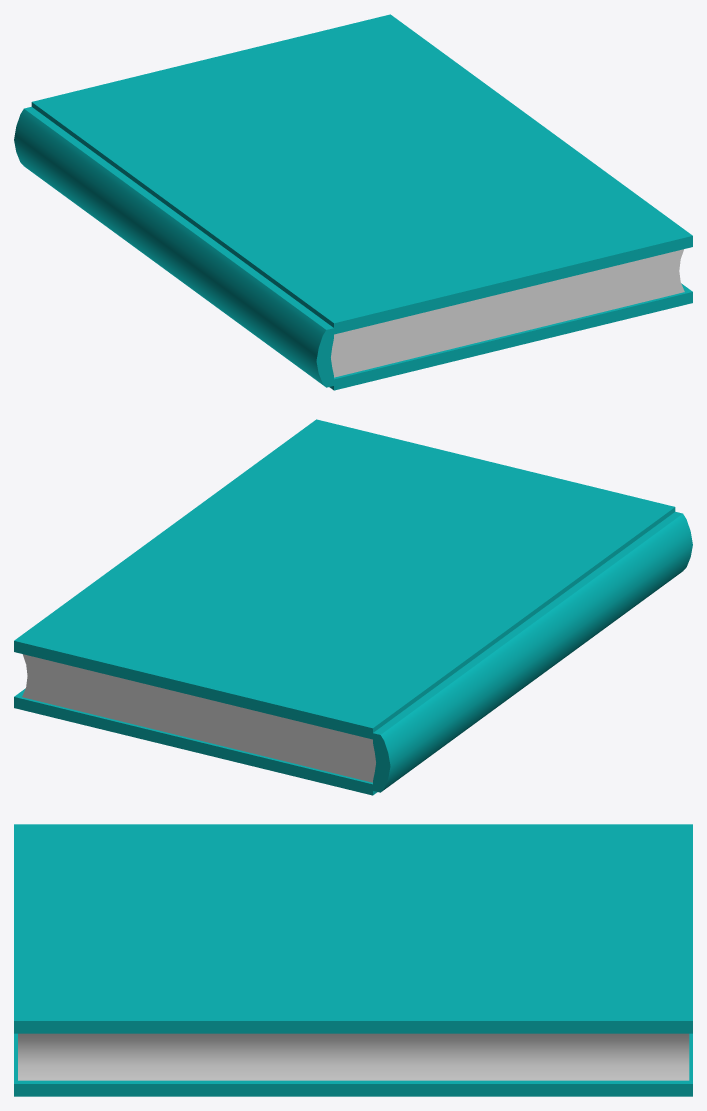
The model's file is LightBlueBook.fbx.
3 views of the same model, one above another, from view 1: azimuth 30°, elevation 25°; view 2: azimuth 150°, elevation 25°; view 3: azimuth 270°, elevation 25° (orthographic). The views are drawn at different scales.
Parts seen in each view (by area): view 1: pCube1.011, pCube1.010; view 2: pCube1.011, pCube1.010; view 3: pCube1.011, pCube1.010.
Boxes of the visible parts, box(x1,y1,x2,y2) form: pCube1.011: box(14, 14, 692, 390); pCube1.010: box(331, 249, 684, 377); pCube1.011: box(14, 419, 692, 795); pCube1.010: box(22, 654, 375, 782); pCube1.011: box(14, 824, 692, 1096); pCube1.010: box(18, 1033, 689, 1080).
Bounding box in the file's own units: 176 × 30 × 244.
